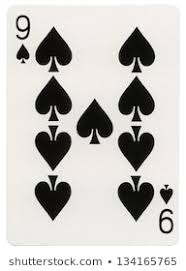nine of spades: (7, 4, 180, 246)
